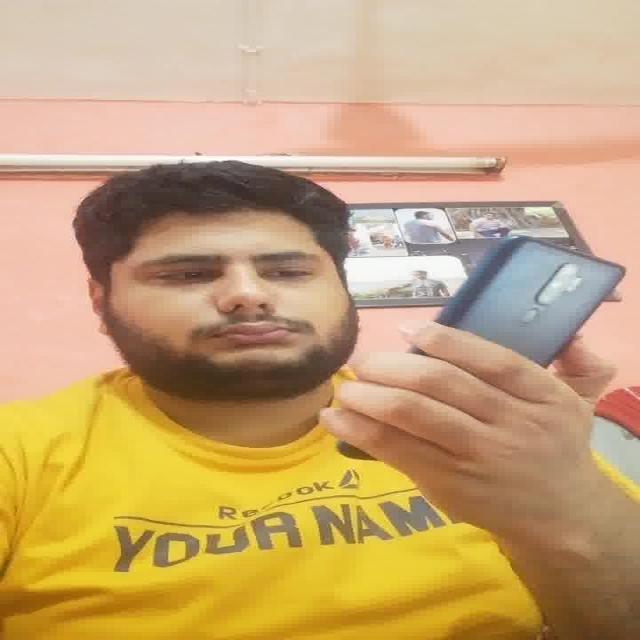Phone: (407, 236, 633, 370)
